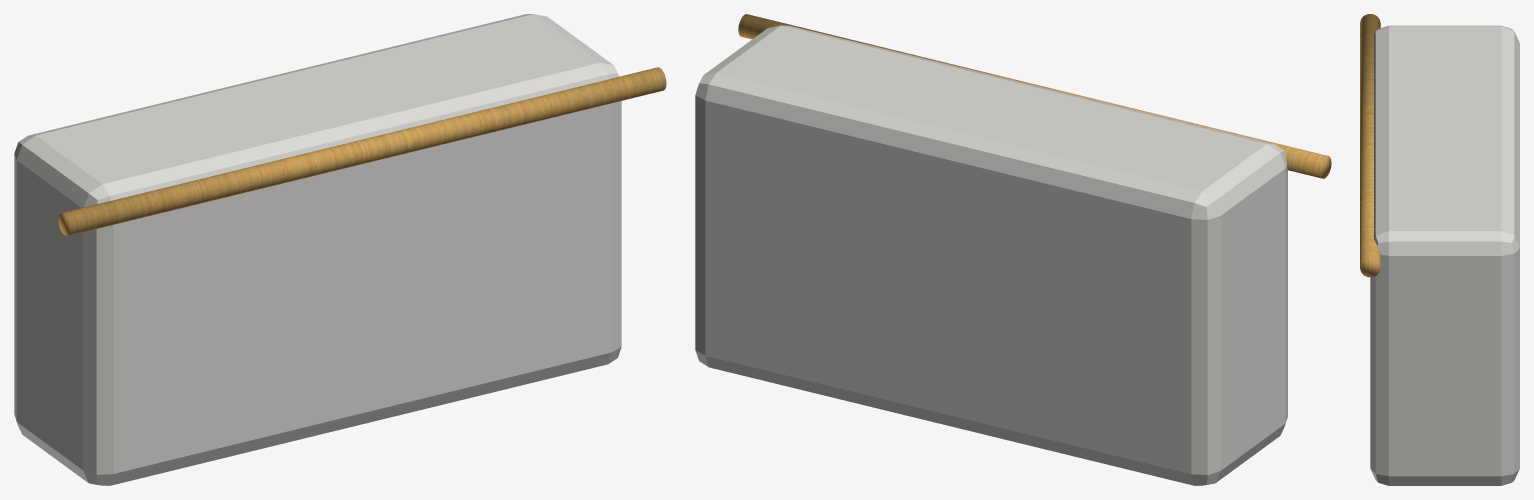
The model's file is ensuite_towel.glb.
3 views of the same model, side by side, from view 1: azimuth 30°, elevation 25°; view 2: azimuth 150°, elevation 25°; view 3: azimuth 270°, elevation 25° (orthographic). The views are drawn at different scales.
Parts seen in each view (by area): view 1: ensuite_towel; view 2: ensuite_towel; view 3: ensuite_towel.
Part boxes in pixels (left/top/right/bottom): ensuite_towel: left=14, top=14, right=666, bottom=485; ensuite_towel: left=695, top=14, right=1331, bottom=485; ensuite_towel: left=1360, top=14, right=1519, bottom=485.
Size of the model in its own units: 0.62 by 0.3 by 0.171.
2 materials, 1 textured.
